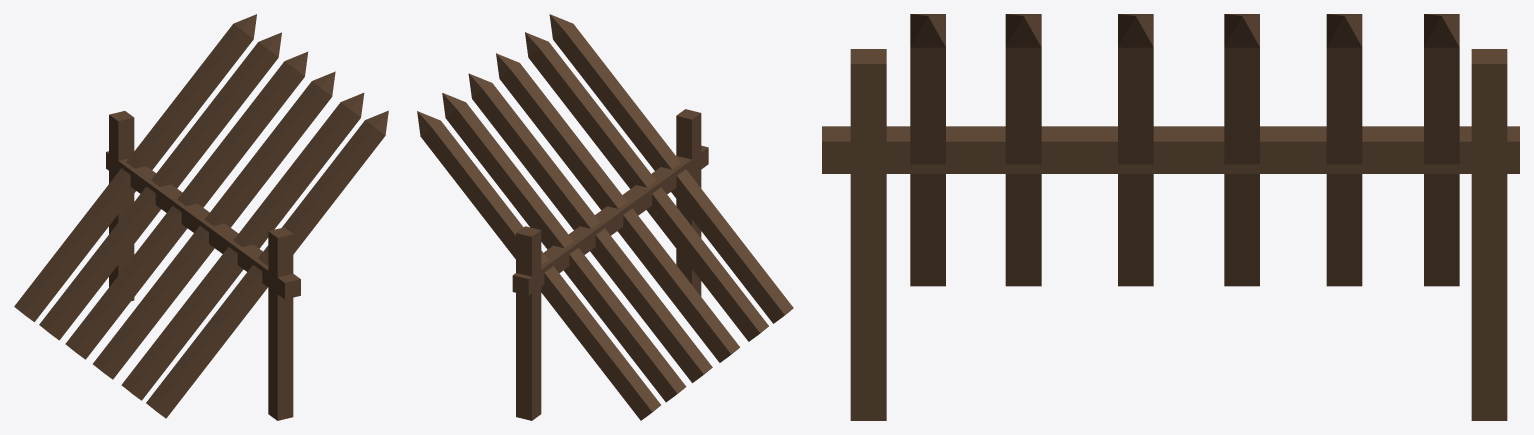
Rendered from SM_SpikedBarricade.fbx.
3 views of the same model, side by side, from view 1: azimuth 30°, elevation 25°; view 2: azimuth 150°, elevation 25°; view 3: azimuth 270°, elevation 25° (orthographic). The views are drawn at different scales.
Visible parts, largest first — view 1: SM_SpikedBarricade; view 2: SM_SpikedBarricade; view 3: SM_SpikedBarricade.
Part boxes in pixels (<box>): SM_SpikedBarricade: <box>14,14,388,420</box>; SM_SpikedBarricade: <box>417,14,793,420</box>; SM_SpikedBarricade: <box>822,14,1519,420</box>.
Bounding box in the file's own units: 59.93 × 63.4 × 77.92.
